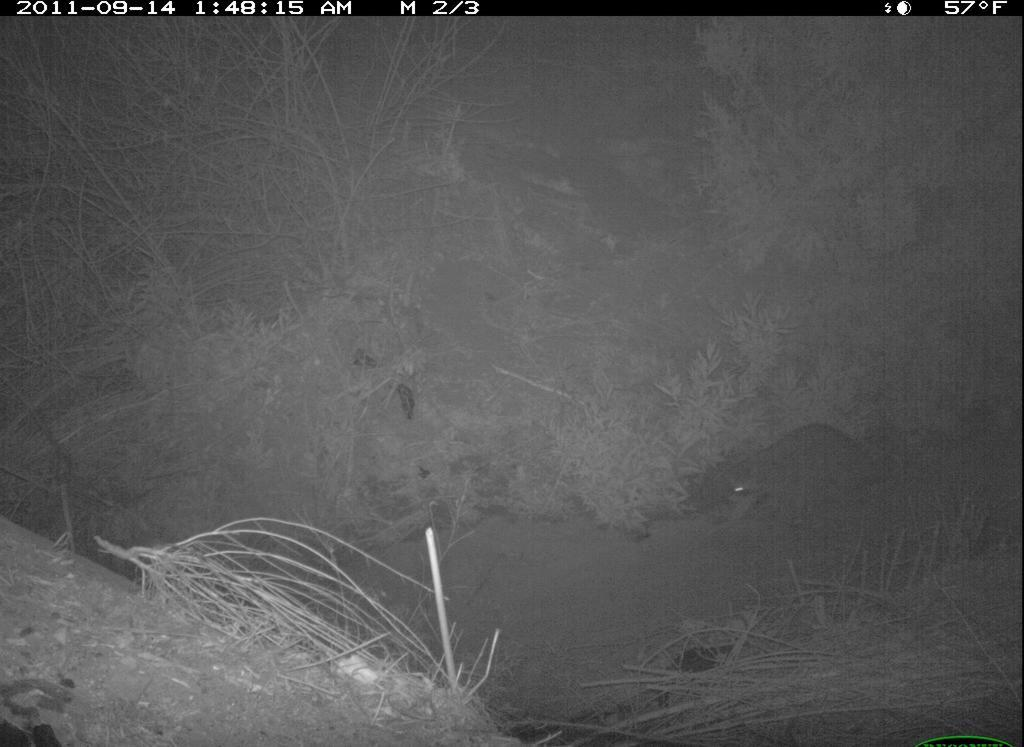raccoon: (679, 415, 902, 537)
